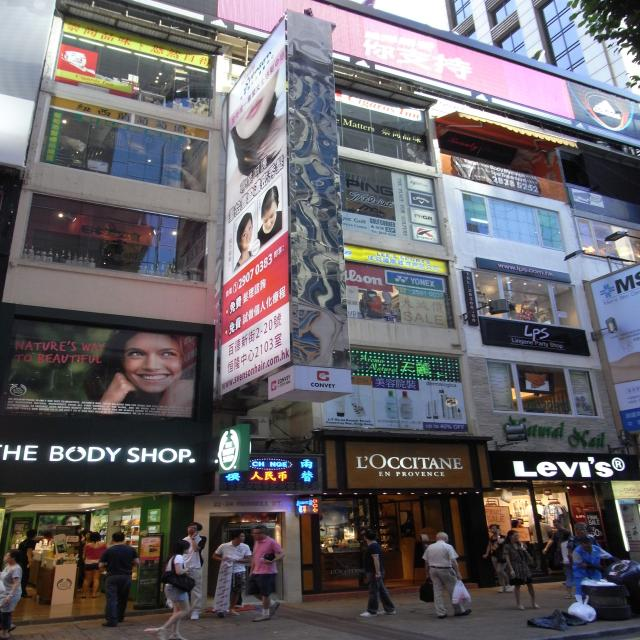body: (207, 73, 281, 290), (68, 316, 210, 427), (17, 512, 138, 563), (418, 529, 474, 620), (152, 538, 197, 640), (98, 530, 140, 628), (246, 524, 288, 622), (570, 535, 622, 612), (210, 530, 254, 617), (358, 529, 396, 618), (501, 529, 541, 611), (177, 522, 208, 620), (482, 524, 515, 593), (0, 548, 25, 639), (77, 530, 109, 600), (355, 279, 394, 328), (565, 522, 602, 570), (16, 528, 39, 598), (542, 519, 572, 571), (528, 513, 553, 572), (560, 531, 576, 599), (76, 530, 94, 590), (500, 510, 529, 533), (41, 530, 54, 546)
